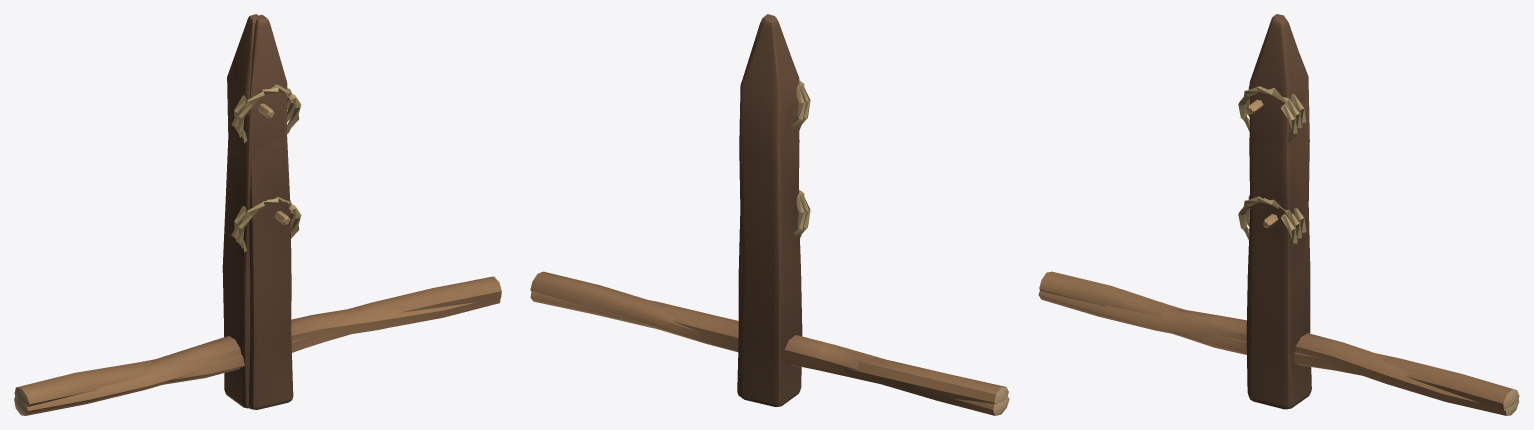
Rendered from pr_fence.glb.
3 renders of one model, left to right at view 1: azimuth 30°, elevation 25°; view 2: azimuth 150°, elevation 25°; view 3: azimuth 330°, elevation 25°, orthographic.
Visible parts, largest first — view 1: PR_fence__post, PR_fence__postB, PR_fence__rail, PR_fence__railB; view 2: PR_fence__postB, PR_fence__post, PR_fence__railB, PR_fence__rail; view 3: PR_fence__post, PR_fence__rail, PR_fence__railB, PR_fence__postB.
Boxes of the visible parts, left/top/right/bottom form: PR_fence__post: left=227, top=14, right=301, bottom=409; PR_fence__postB: left=222, top=15, right=287, bottom=408; PR_fence__rail: left=14, top=298, right=500, bottom=415; PR_fence__railB: left=14, top=276, right=501, bottom=406; PR_fence__postB: left=740, top=14, right=802, bottom=406; PR_fence__post: left=737, top=16, right=810, bottom=396; PR_fence__railB: left=530, top=271, right=1008, bottom=404; PR_fence__rail: left=530, top=291, right=1009, bottom=415; PR_fence__post: left=1238, top=14, right=1311, bottom=409; PR_fence__rail: left=1038, top=290, right=1519, bottom=415; PR_fence__railB: left=1039, top=271, right=1519, bottom=410; PR_fence__postB: left=1246, top=17, right=1307, bottom=394.
Bounding box in the file's own units: 1.81 × 1.39 × 0.2319.
